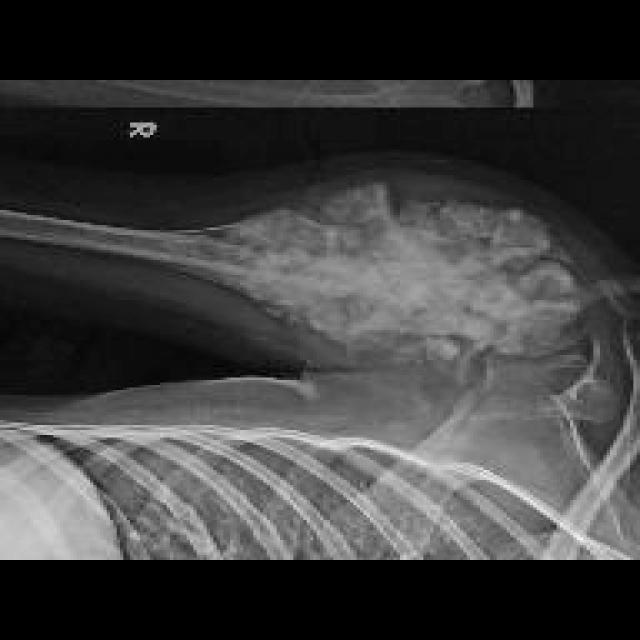bone-cancer: (182, 182, 593, 367)
